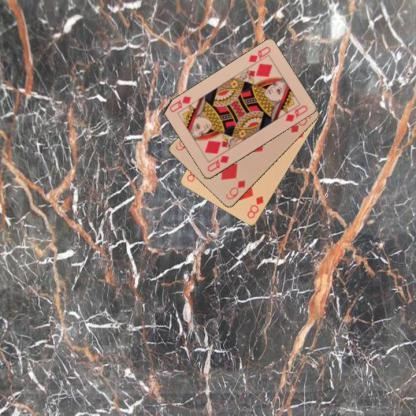6d: (223, 177, 247, 201)
8d: (245, 194, 266, 221)
Qd: (246, 44, 272, 69), (204, 153, 230, 173)
